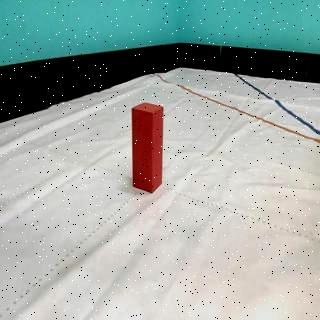redbox: (130, 101, 164, 193)
